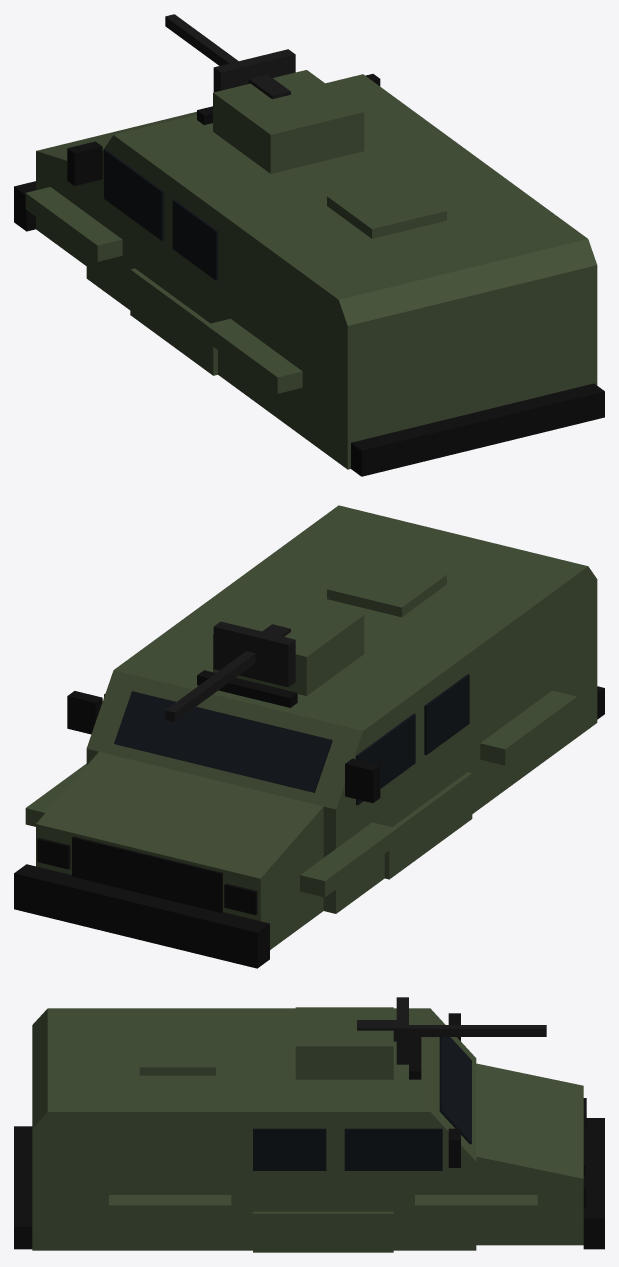
Rendered from SandcatSinLlantas.fbx.
3 renders of one model, top to bottom at view 1: azimuth 30°, elevation 25°; view 2: azimuth 150°, elevation 25°; view 3: azimuth 270°, elevation 25°, orthographic. The views are drawn at different scales.
Visible parts, largest first — view 1: Cuerpo, Detalles, Vidrios, Arma; view 2: Cuerpo, Detalles, Vidrios, Arma; view 3: Cuerpo, Vidrios, Detalles, Arma.
Boxes of the visible parts, x1,y1,x2,y2 form: Cuerpo: [25, 70, 597, 469]; Detalles: [14, 74, 604, 476]; Vidrios: [104, 149, 217, 280]; Arma: [165, 14, 295, 99]; Cuerpo: [25, 505, 597, 949]; Detalles: [14, 670, 604, 968]; Vidrios: [104, 674, 469, 805]; Arma: [165, 621, 295, 722]; Cuerpo: [32, 1007, 583, 1252]; Vidrios: [253, 1037, 471, 1170]; Detalles: [14, 1013, 604, 1249]; Arma: [357, 997, 546, 1064].
Size of the model in its own units: 9.8 by 6.7 by 19.3.
